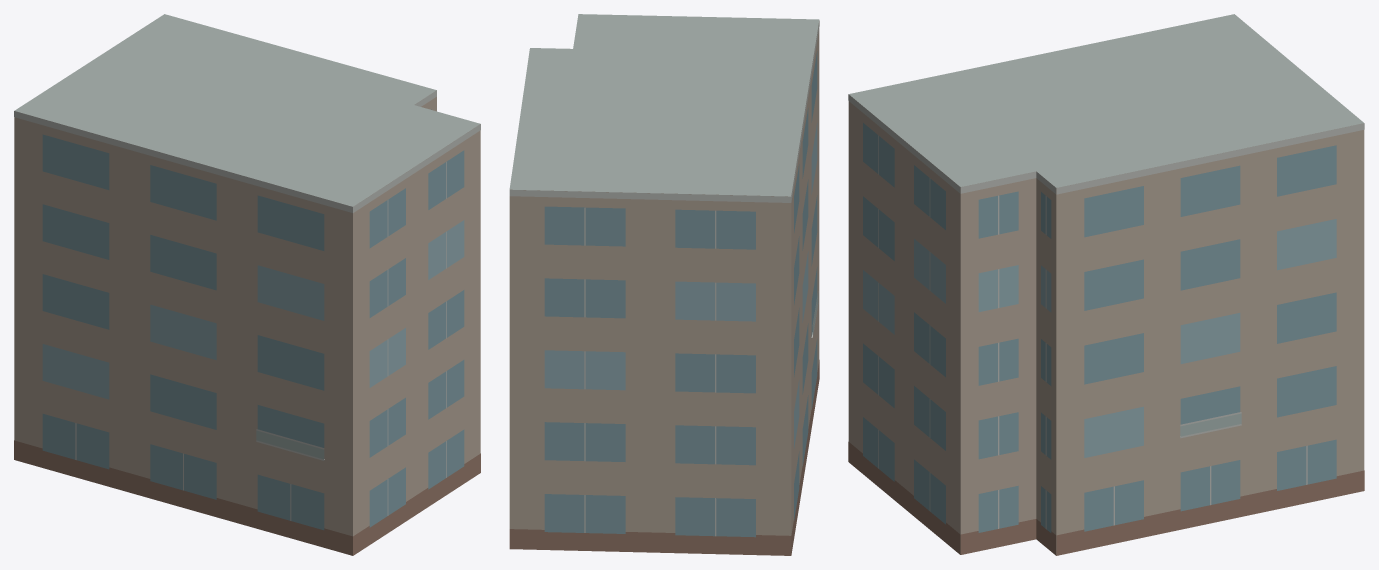
File: survey-upis-32833017.glb
The picture shows the model from 3 angles, left to right: view 1: azimuth 30°, elevation 25°; view 2: azimuth 150°, elevation 25°; view 3: azimuth 270°, elevation 25°; orthographic projection. The views are drawn at different scales.
Parts seen in each view (by area): view 1: survey-upis-32833017.tmp; view 2: survey-upis-32833017.tmp; view 3: survey-upis-32833017.tmp.
Boxes of the visible parts, left/top/right/bottom form: survey-upis-32833017.tmp: left=14, top=14, right=480, bottom=555; survey-upis-32833017.tmp: left=509, top=14, right=819, bottom=555; survey-upis-32833017.tmp: left=848, top=14, right=1364, bottom=555.
Size of the model in its own units: 13.68 by 13.48 by 17.14.
